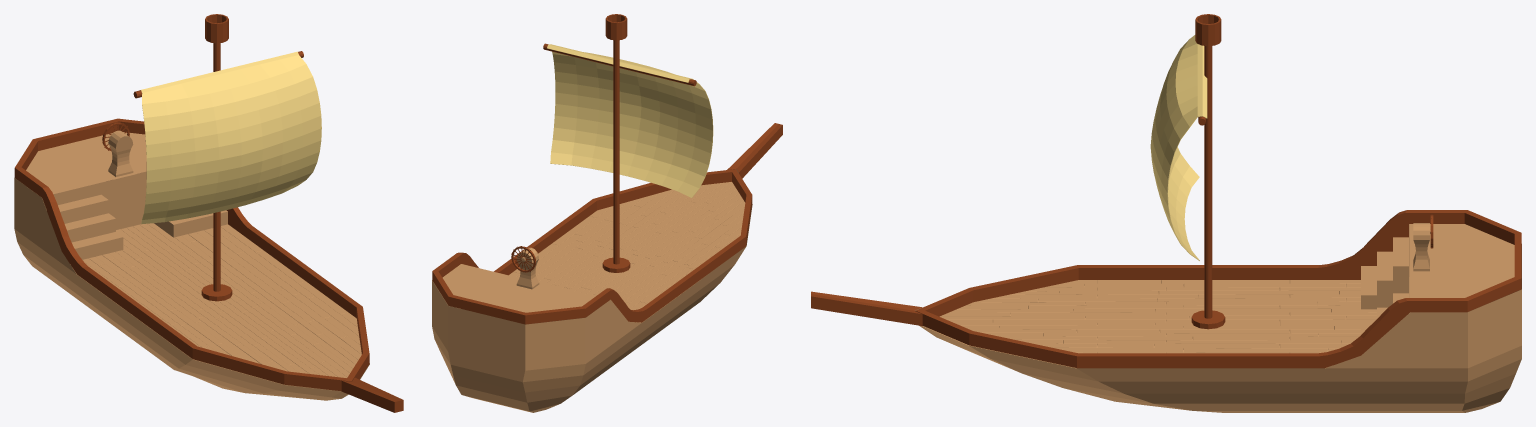
File: Ship2Broken2.fbx
The picture shows the model from 3 angles, left to right: view 1: azimuth 30°, elevation 25°; view 2: azimuth 150°, elevation 25°; view 3: azimuth 270°, elevation 25°; orthographic projection. The views are drawn at different scales.
Visible parts, largest first — view 1: Wheel.014, Wheel.005, Wheel.008, Wheel.003, Wheel.015, Wheel.009, Wheel.012, Wheel.011, Wheel.006, Wheel.016, Wheel.098, Wheel.059 (+30 smaller); view 2: Wheel.008, Wheel.014, Wheel.005, Wheel.003, Wheel.012, Wheel.006, Wheel.011, Wheel.067, Wheel.088, Wheel.071, Wheel.073, Wheel.077 (+12 smaller); view 3: Wheel.008, Wheel.005, Wheel.014, Wheel.003, Wheel.012, Wheel.015, Wheel.006, Wheel.011, Wheel.086, Wheel.067, Wheel.059, Wheel.091 (+5 smaller).
Part boxes in pixels (x1,y1,x2,y2): Wheel.014: [133, 51, 321, 224]; Wheel.005: [14, 118, 369, 391]; Wheel.008: [14, 172, 369, 400]; Wheel.003: [26, 132, 146, 194]; Wheel.015: [46, 194, 123, 259]; Wheel.009: [53, 171, 146, 229]; Wheel.012: [201, 14, 232, 301]; Wheel.011: [102, 122, 133, 179]; Wheel.006: [341, 377, 403, 412]; Wheel.016: [154, 210, 227, 237]; Wheel.098: [226, 236, 315, 298]; Wheel.059: [109, 258, 201, 322]; Wheel.008: [432, 204, 752, 412]; Wheel.014: [543, 43, 713, 197]; Wheel.005: [432, 169, 752, 324]; Wheel.003: [442, 264, 594, 312]; Wheel.012: [602, 14, 630, 272]; Wheel.006: [727, 123, 782, 178]; Wheel.011: [511, 246, 539, 289]; Wheel.067: [619, 201, 695, 257]; Wheel.088: [633, 202, 708, 255]; Wheel.071: [576, 205, 640, 249]; Wheel.073: [645, 210, 713, 258]; Wheel.077: [649, 218, 717, 266]; Wheel.008: [919, 224, 1521, 412]; Wheel.005: [915, 210, 1521, 368]; Wheel.014: [1150, 35, 1207, 260]; Wheel.003: [1409, 224, 1514, 297]; Wheel.012: [1191, 14, 1225, 329]; Wheel.015: [1361, 237, 1408, 309]; Wheel.006: [811, 291, 922, 325]; Wheel.011: [1413, 214, 1433, 271]; Wheel.086: [1184, 283, 1345, 288]; Wheel.067: [999, 326, 1183, 330]; Wheel.059: [1157, 298, 1345, 303]; Wheel.091: [1166, 301, 1317, 306].
Size of the model in its own units: 4.1 by 7.58 by 13.16.
